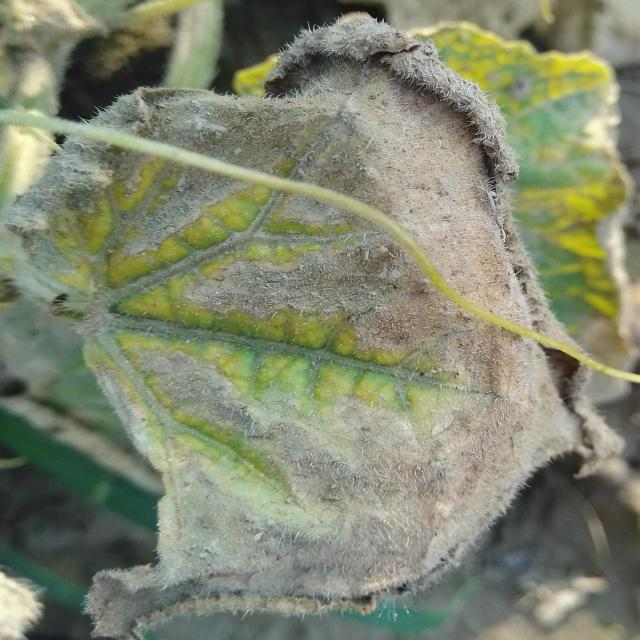cucumber_gummy: (3, 0, 625, 640)
